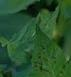Tomato leaf bacterial spot: (27, 21, 71, 77)
